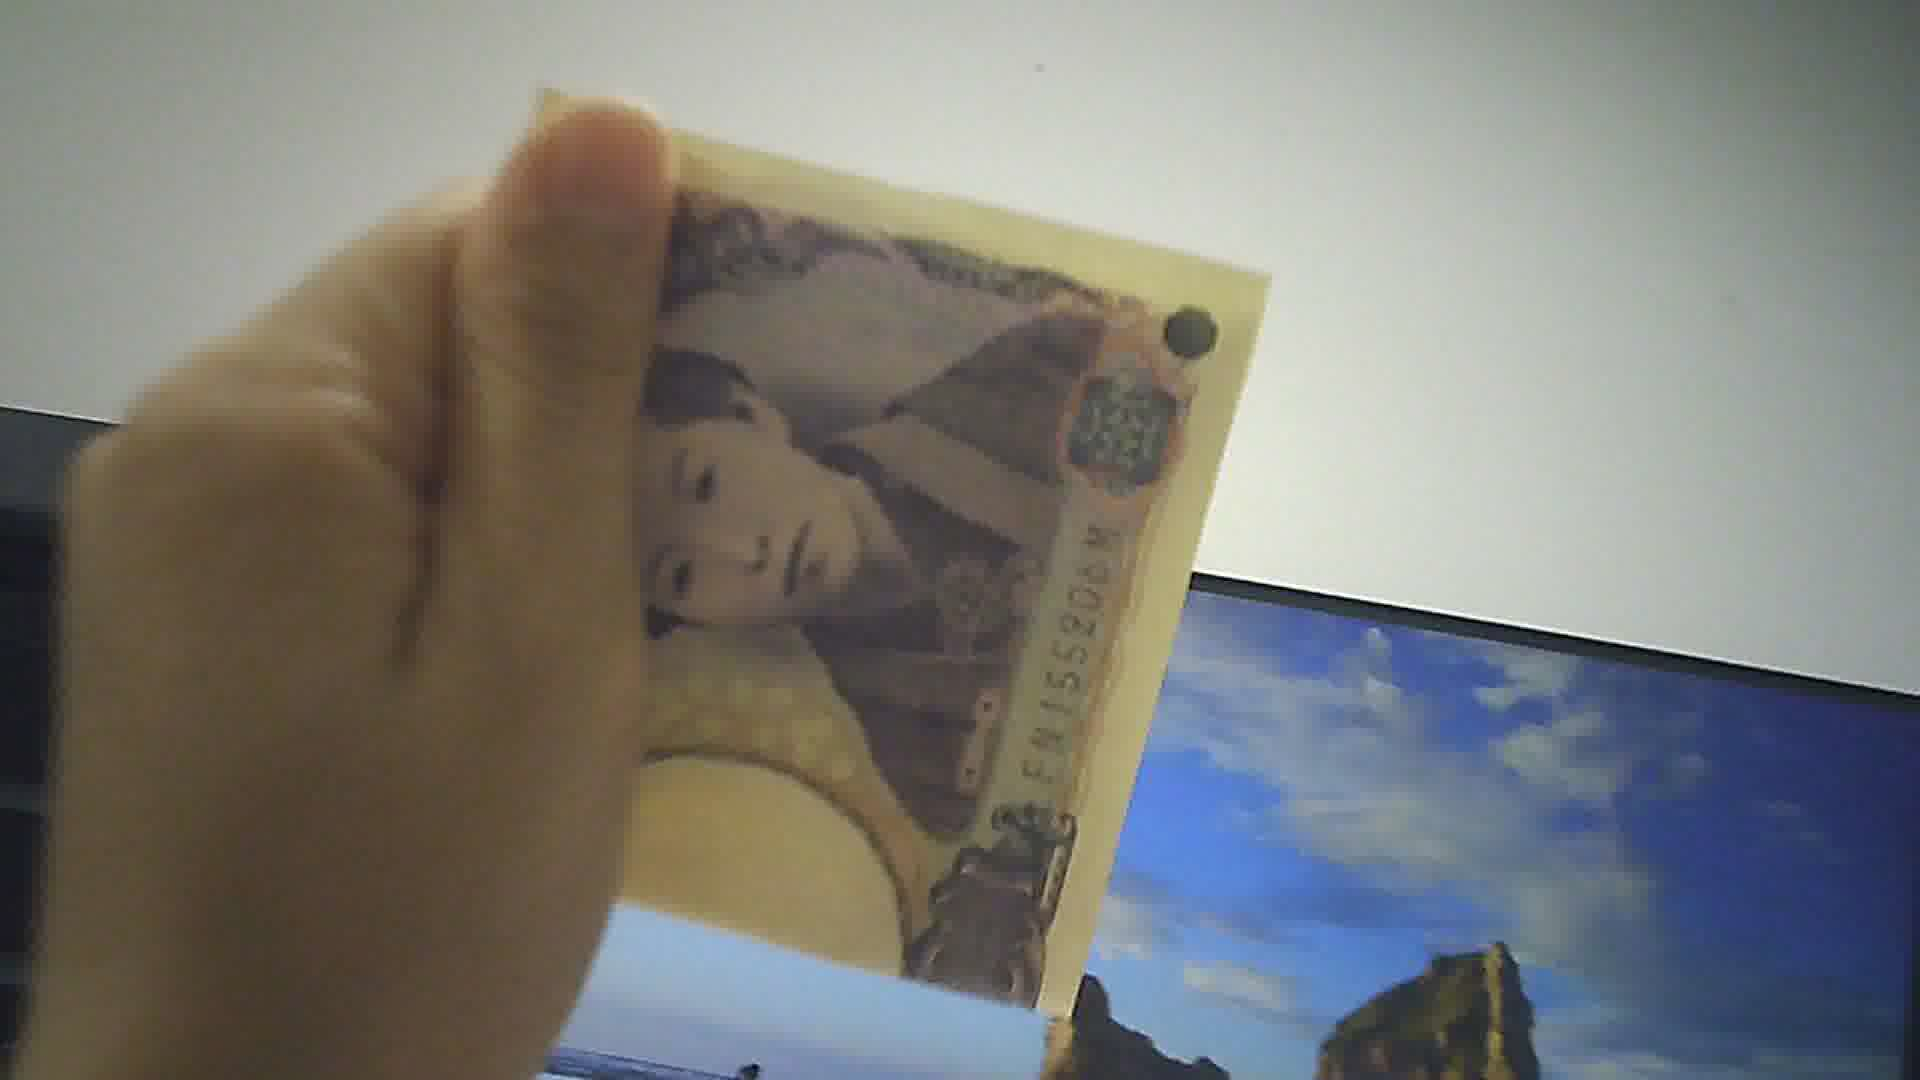5,000 Yen: (450, 83, 1287, 1033)
